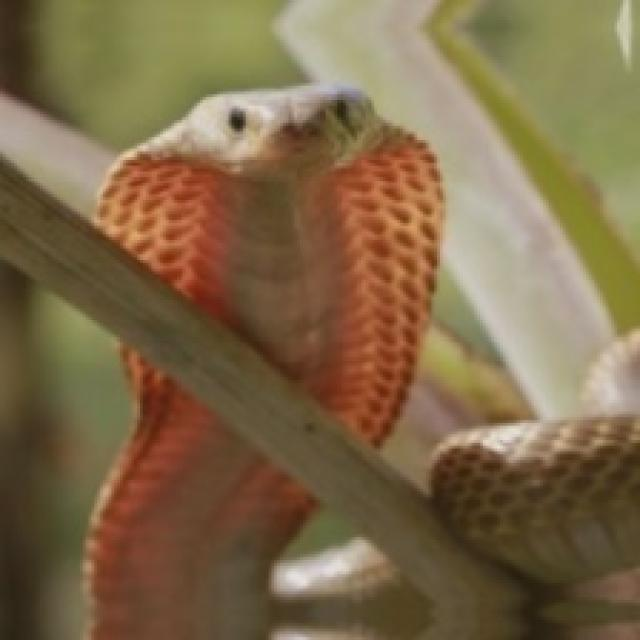philippine cobra: (97, 86, 440, 443), (89, 349, 311, 637), (432, 418, 640, 583)
